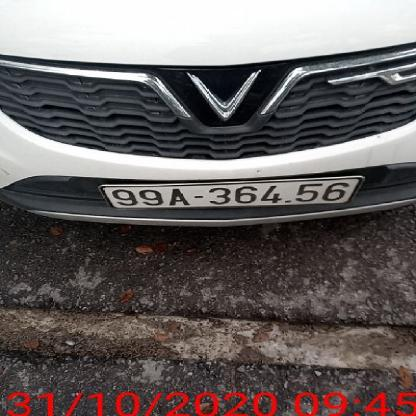biensoxe: (101, 180, 361, 212)
